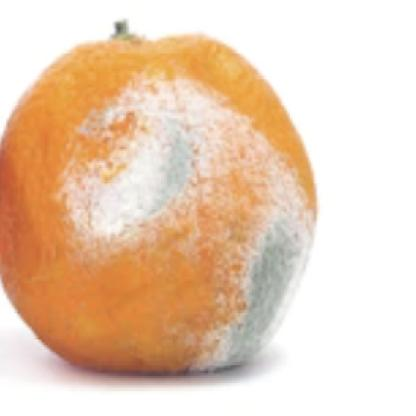rotten: (1, 28, 318, 383)
